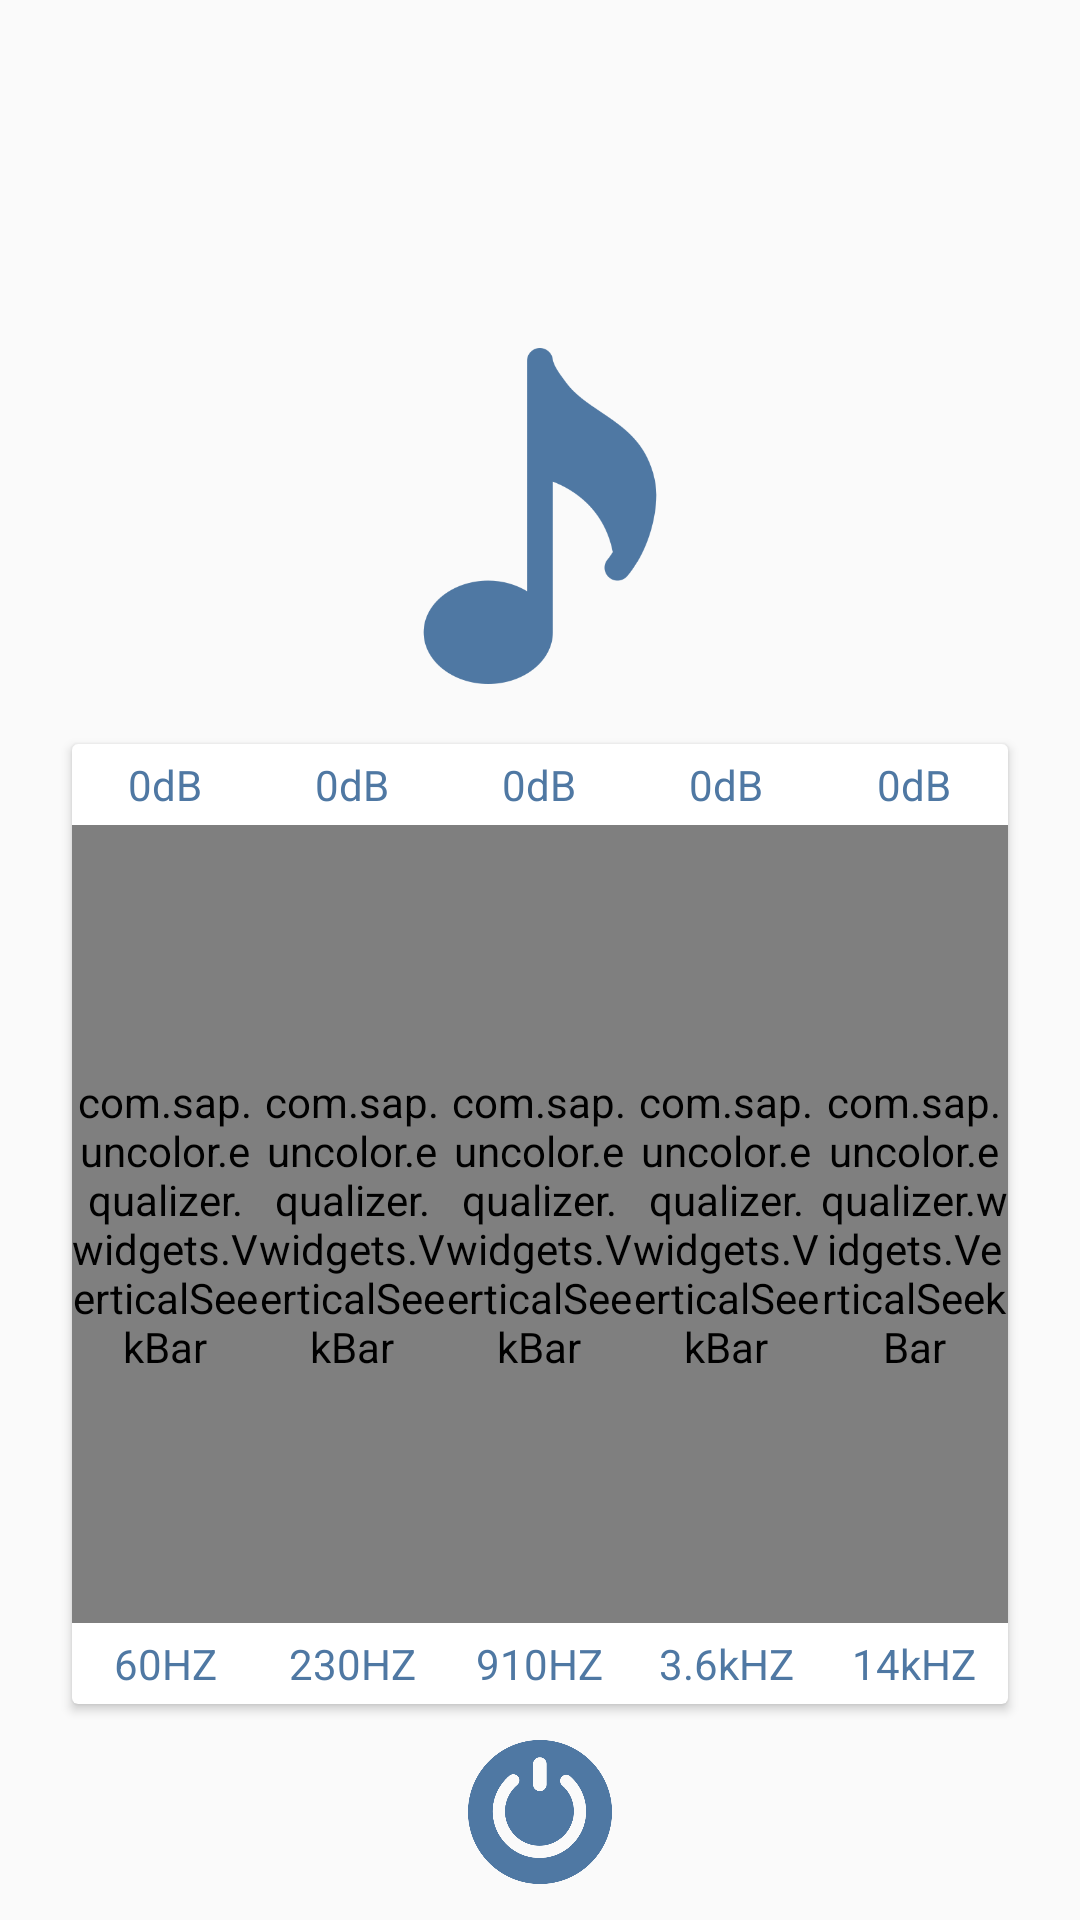

Icons on this 1080w x 1920h Android screen, each with the point to tap as (x=x, y=y):
turn: (x=540, y=1812)
